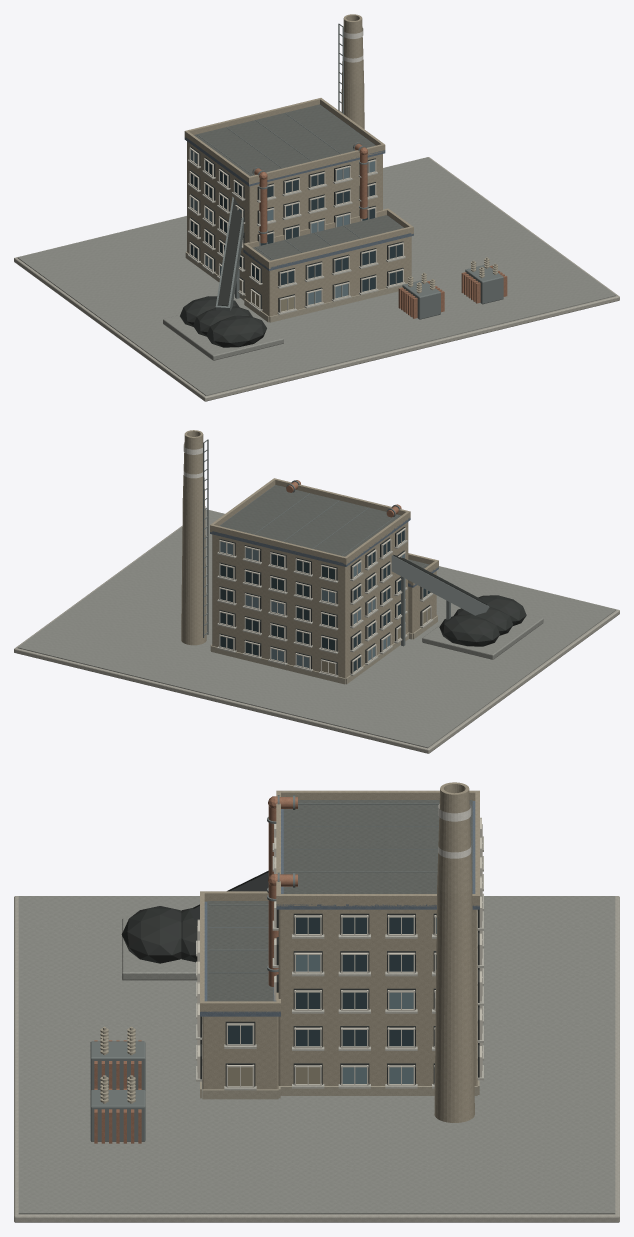
Rendered from EXP_POWER_COAL_SMALL.glb.
3 renders of one model, top to bottom at view 1: azimuth 30°, elevation 25°; view 2: azimuth 150°, elevation 25°; view 3: azimuth 270°, elevation 25°, orthographic. The views are drawn at different scales.
Parts seen in each view (by area): view 1: EXP_POWER_COAL_SMALL_Visual; view 2: EXP_POWER_COAL_SMALL_Visual; view 3: EXP_POWER_COAL_SMALL_Visual.
Part boxes in pixels (box(x1,y1,x2,y2)): EXP_POWER_COAL_SMALL_Visual: box(14, 14, 619, 401); EXP_POWER_COAL_SMALL_Visual: box(14, 430, 619, 753); EXP_POWER_COAL_SMALL_Visual: box(14, 782, 619, 1222).
Size of what is drawn, in the model's own units: 9.92 by 4.84 by 7.92.
15 materials, 9 textured.
